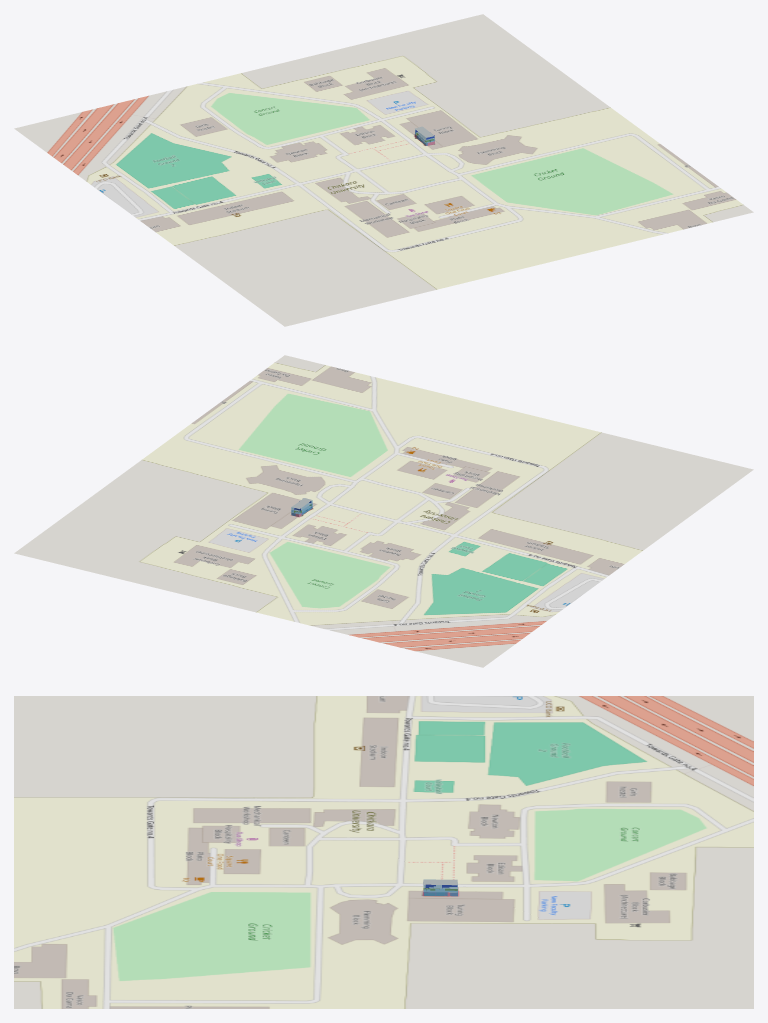
File: mymodel1.gltf
3 renders of one model, top to bottom at view 1: azimuth 30°, elevation 25°; view 2: azimuth 150°, elevation 25°; view 3: azimuth 270°, elevation 25°, orthographic. The views are drawn at different scales.
Parts seen in each view (by area): view 1: Flat Plane; view 2: Flat Plane; view 3: Flat Plane.
Part boxes in pixels (left/top/right/bottom): Flat Plane: left=14, top=14, right=753, bottom=326; Flat Plane: left=14, top=355, right=753, bottom=667; Flat Plane: left=14, top=696, right=753, bottom=1008.
Bounding box in the file's own units: 544 × 9 × 544.
8 materials, 2 textured.
